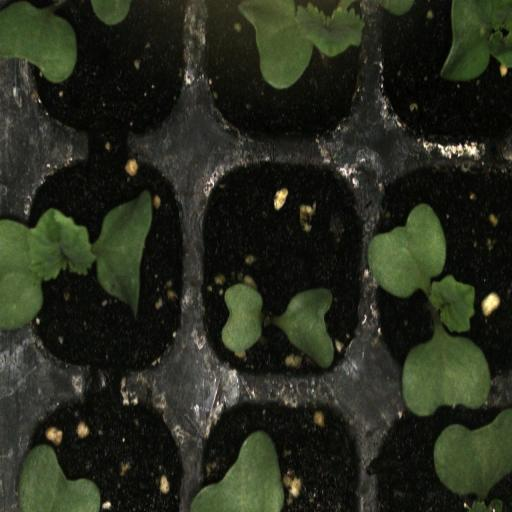seedling: (18, 149, 189, 380), (370, 151, 511, 383), (192, 0, 366, 153)
weak: (189, 151, 370, 378)
